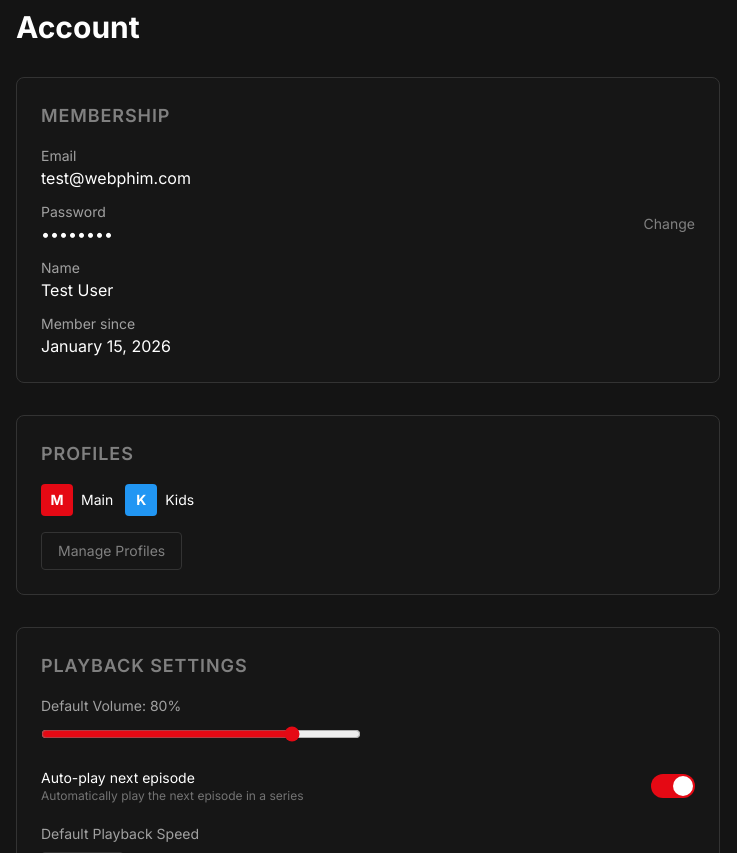
it: AccountPage › hides password form when Cancel clicked
What coordinates should you click on to do the following:
click the button with test id "change-password-toggle"
I would click on:
 (669, 224)
Its box is [644,214,695,234].
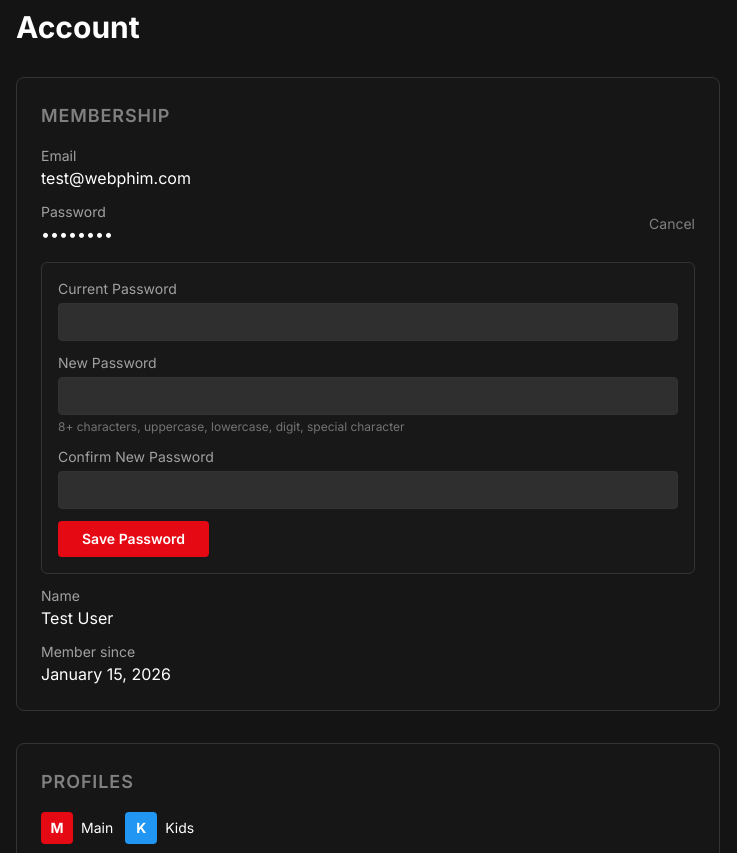
Check: the form with test id "change-password-form" is shown, box [41,262,695,574]
What coordinates should you click on to do the following:
click the button with test id "change-password-toggle"
I would click on:
 (672, 224)
Its box is [649,214,695,234].
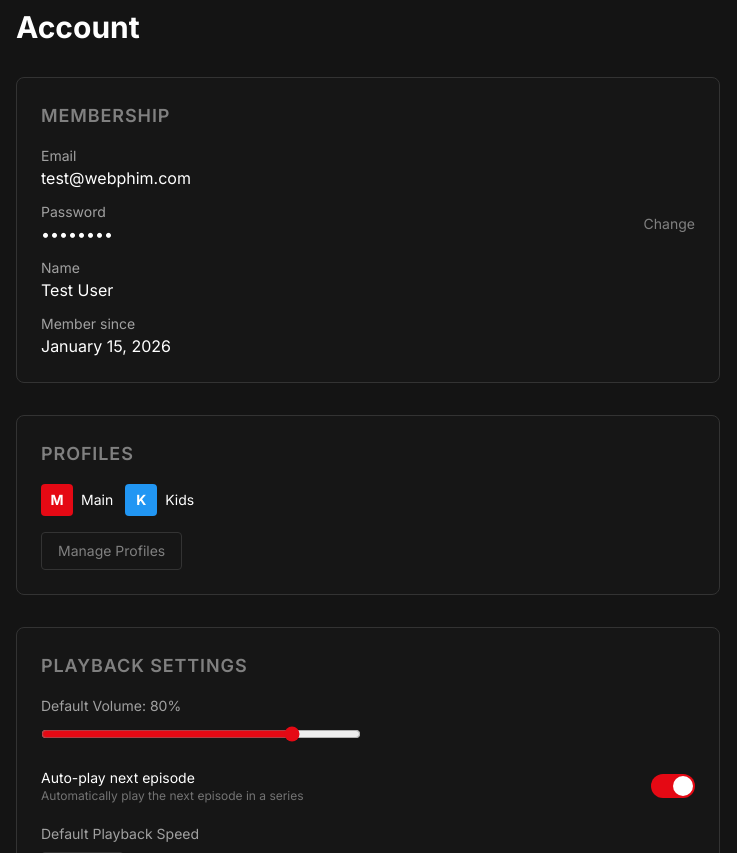
Check: the form with test id "change-password-form" is gone
